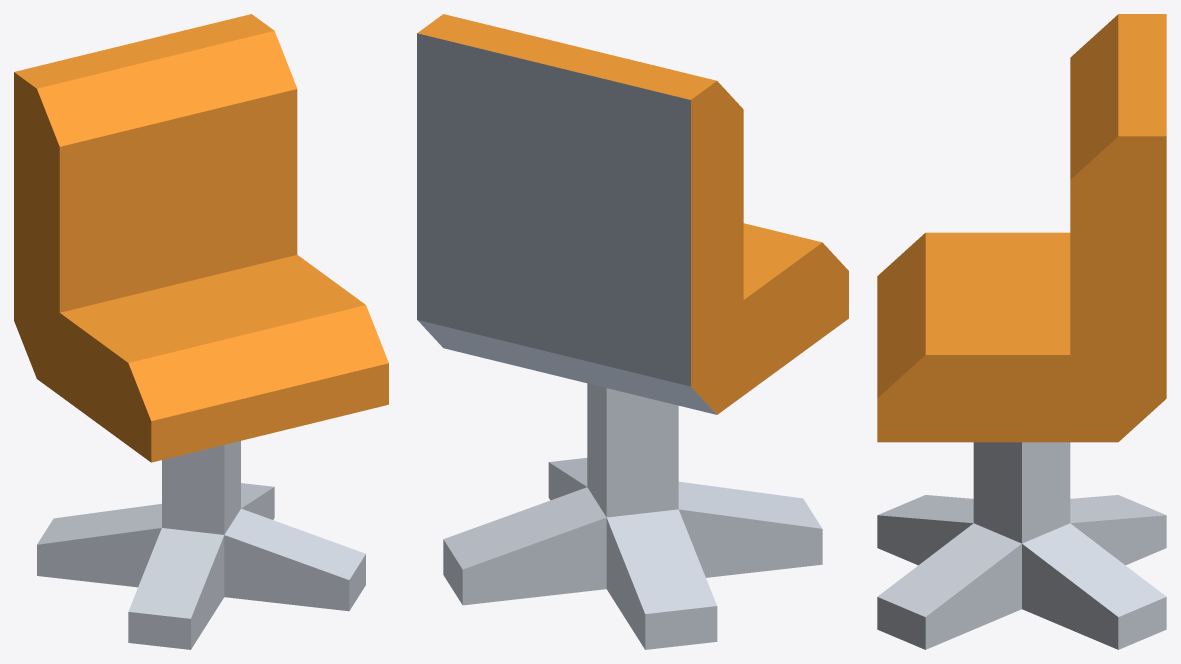
3 renders of one model, left to right at view 1: azimuth 30°, elevation 25°; view 2: azimuth 150°, elevation 25°; view 3: azimuth 270°, elevation 25°, orthographic. The views are drawn at different scales.
Visible parts, largest first — view 1: desk_chair; view 2: desk_chair; view 3: desk_chair.
Boxes of the visible parts, x1,y1,x2,y2 form: desk_chair: [14, 14, 388, 649]; desk_chair: [417, 14, 848, 649]; desk_chair: [877, 14, 1166, 649].
Size of the model in its own units: 0.15 by 0.2937 by 0.15.
